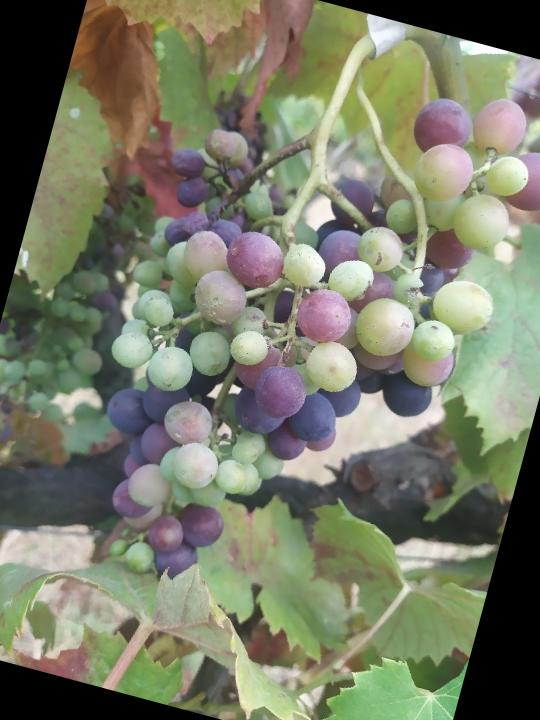grape: (55, 14, 540, 662)
